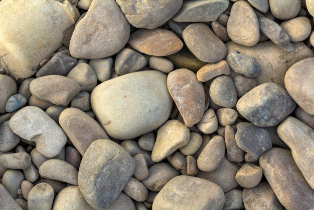stone: (89, 61, 178, 144), (1, 2, 74, 79), (74, 129, 138, 210), (65, 1, 134, 56), (8, 102, 70, 161), (258, 143, 314, 207), (232, 76, 295, 128), (165, 63, 212, 130), (152, 173, 235, 210), (181, 16, 229, 63), (224, 1, 266, 50), (124, 25, 184, 57), (222, 48, 273, 81), (27, 72, 85, 100), (192, 132, 228, 172), (278, 13, 313, 49), (208, 72, 240, 111), (22, 179, 60, 210), (232, 160, 267, 191)
